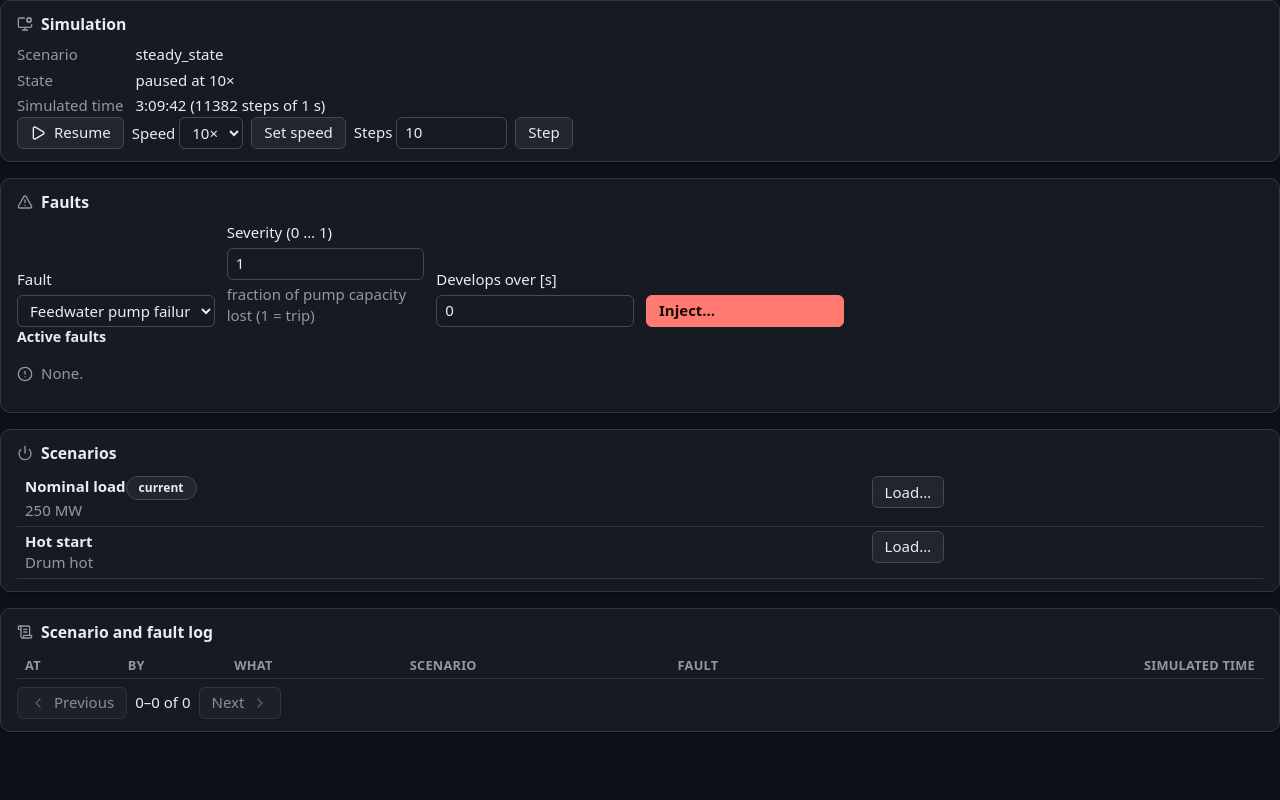
Test: simulation › shows a refusal of the physics engine
Click the button "Step". click: [544, 133]
box: [515,117,573,149]
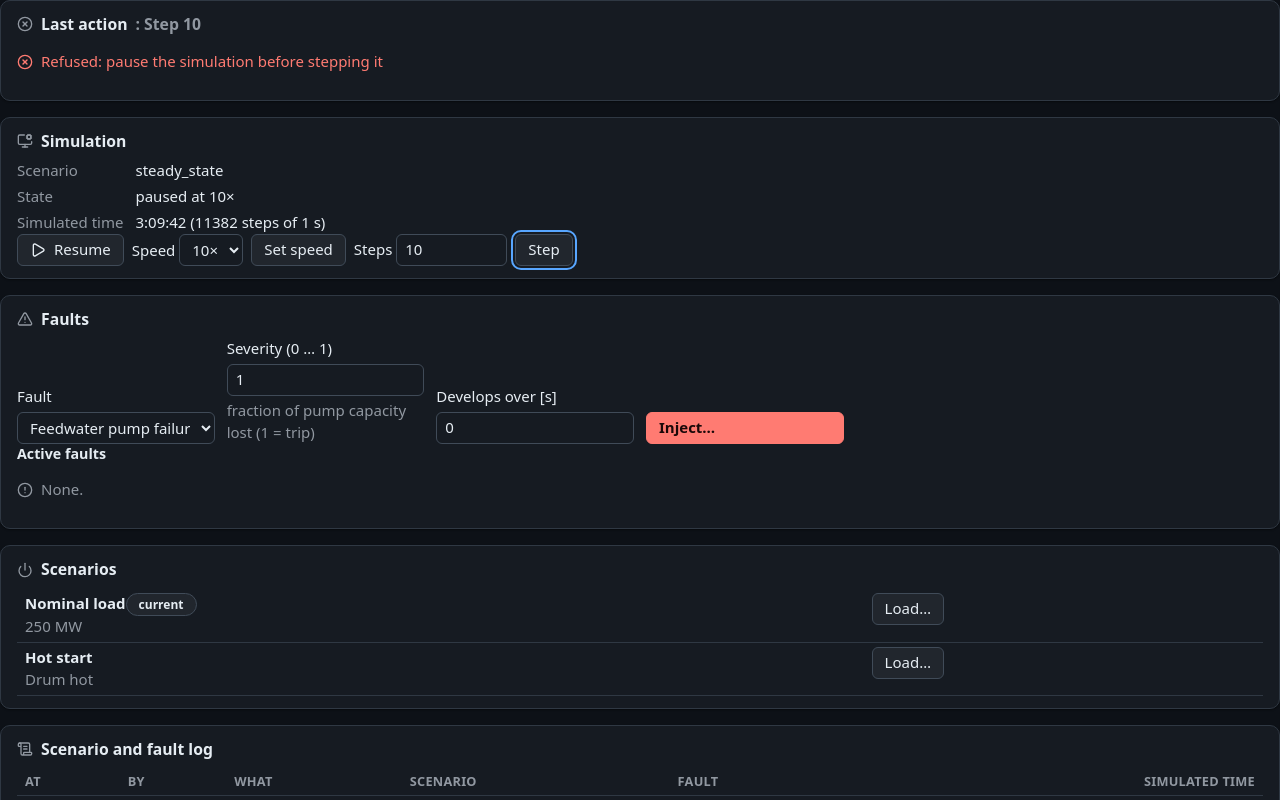
Now the message reads "Refused: pause the simulation before stepping it", box [17,51,383,71]
